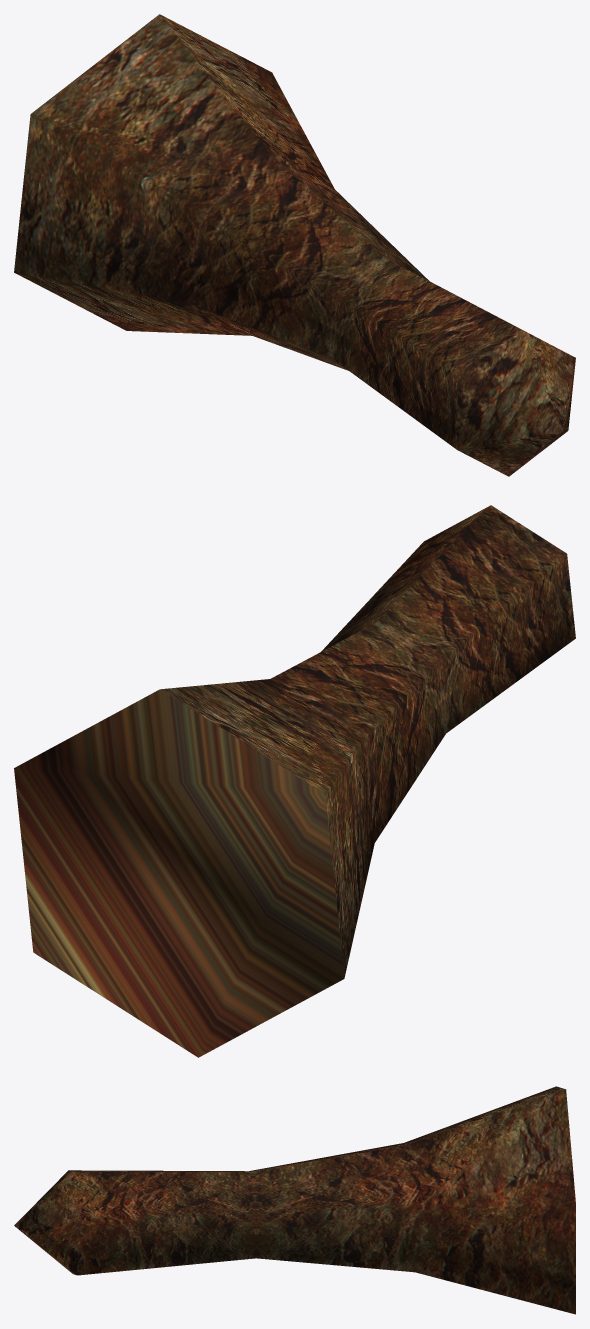
Rendered from stalagmite_10.obj.
3 renders of one model, top to bottom at view 1: azimuth 30°, elevation 25°; view 2: azimuth 150°, elevation 25°; view 3: azimuth 270°, elevation 25°, orthographic. The views are drawn at different scales.
Parts seen in each view (by area): view 1: (null); view 2: (null); view 3: (null).
Boxes of the visible parts, box(x1,y1,x2,y2) form: (null): box(14, 14, 575, 476); (null): box(14, 505, 575, 1057); (null): box(14, 1086, 575, 1314).
Size of the model in its own units: 2.57 by 2.8 by 6.08.
